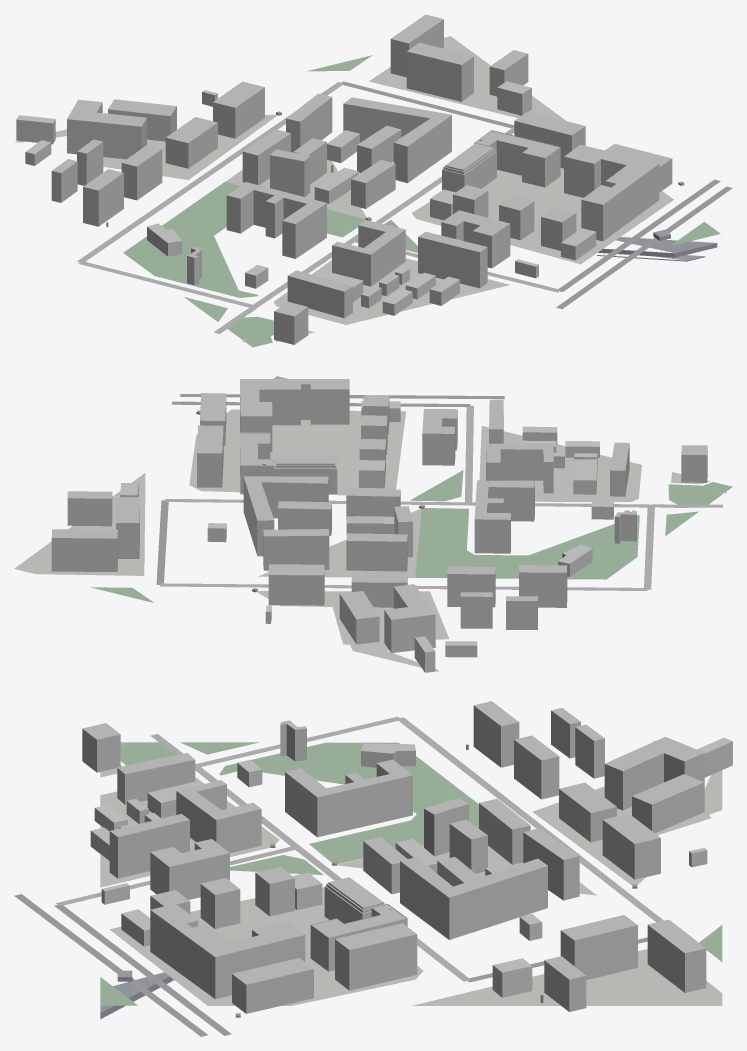
3 views of the same model, one above another, from view 1: azimuth 30°, elevation 25°; view 2: azimuth 150°, elevation 25°; view 3: azimuth 270°, elevation 25° (orthographic). The views are drawn at different scales.
Size of the model in its own units: 608 by 57.5 by 578.
